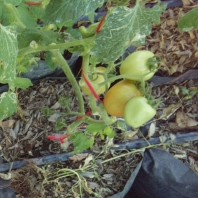tomato: (105, 79, 148, 113), (119, 50, 163, 81), (79, 64, 116, 96), (125, 95, 157, 128)
